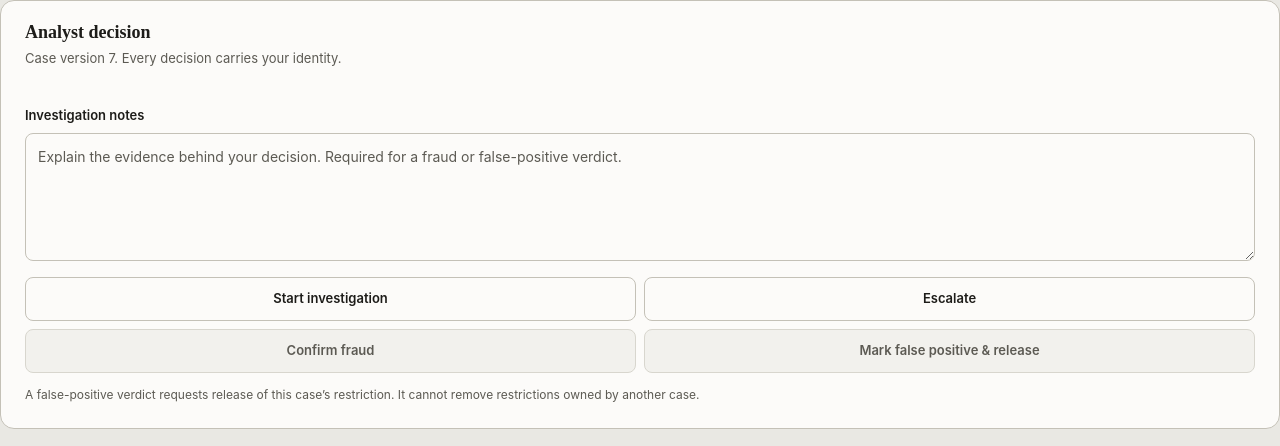
Test: keeps verdict controls disabled until evidence notes are entered
Expected: the button "Confirm fraud" is disabled, left=25, top=329, right=636, bottom=373
Replace the text in the text box with "Transfer followed a new device login" at point(640, 197), box left=25, top=133, right=1255, bottom=261
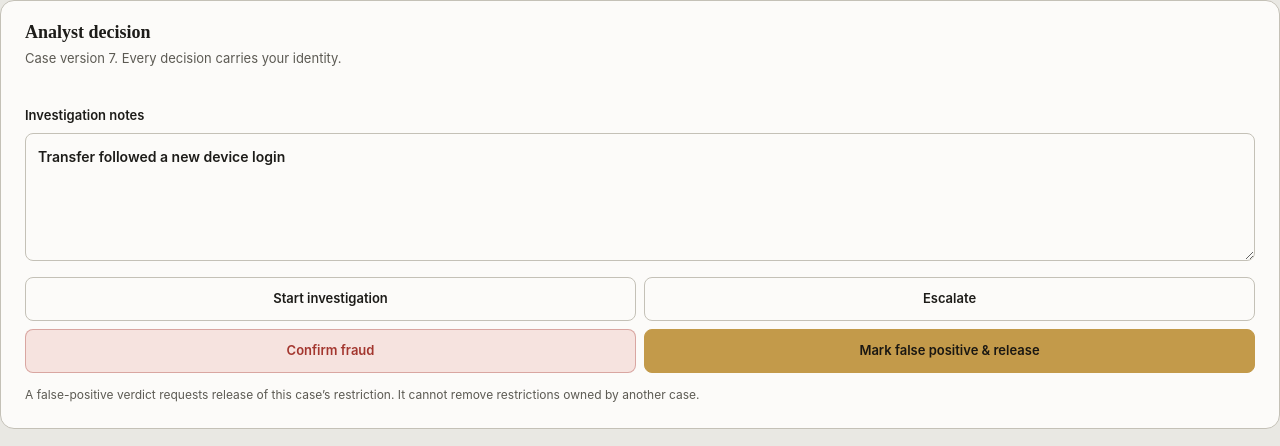
Expected: the button "Confirm fraud" is enabled, left=25, top=329, right=636, bottom=373
